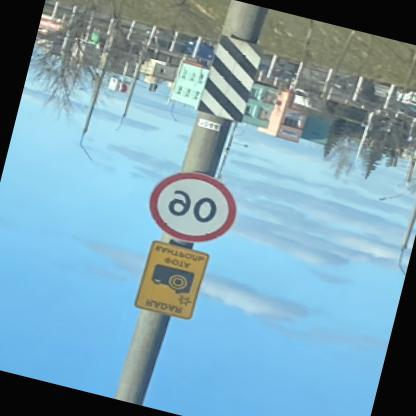speedlimit: (140, 164, 242, 252)
